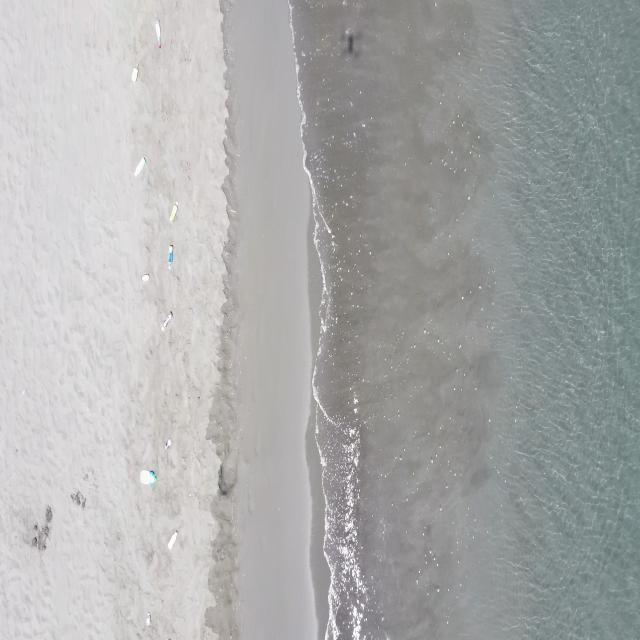Garbage: (32, 506, 51, 550), (70, 489, 84, 507), (160, 312, 172, 331), (140, 468, 155, 483), (135, 156, 144, 176), (167, 529, 176, 548), (168, 201, 176, 221), (155, 20, 160, 47), (167, 243, 172, 267), (131, 67, 138, 81), (164, 437, 171, 448), (145, 612, 150, 624), (141, 272, 148, 280)
